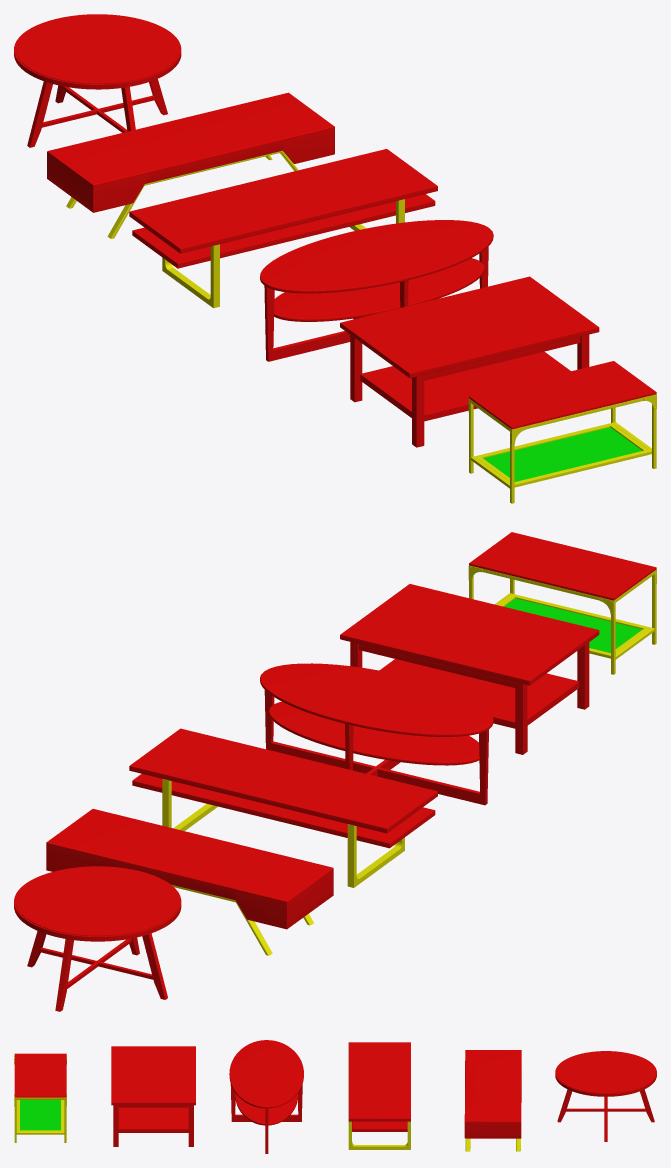
File: thorkea_coffee_tables_grp.fbx
3 renders of one model, top to bottom at view 1: azimuth 30°, elevation 25°; view 2: azimuth 150°, elevation 25°; view 3: azimuth 270°, elevation 25°, orthographic. The views are drawn at different scales.
Parts seen in each view (by area): view 1: thorkea_coffee_table_hemnes, thorkea_coffee_table_lisabo, thorkea_coffee_table_vejmon, thorkea_coffee_table_bankas, thorkea_coffee_table_fjallbo, thorkea_coffee_table_kragsta; view 2: thorkea_coffee_table_hemnes, thorkea_coffee_table_lisabo, thorkea_coffee_table_vejmon, thorkea_coffee_table_bankas, thorkea_coffee_table_kragsta, thorkea_coffee_table_fjallbo; view 3: thorkea_coffee_table_hemnes, thorkea_coffee_table_lisabo, thorkea_coffee_table_vejmon, thorkea_coffee_table_bankas, thorkea_coffee_table_kragsta, thorkea_coffee_table_fjallbo.
Boxes of the visible parts, x1,y1,x2,y2 form: thorkea_coffee_table_hemnes: [340, 276, 599, 447]; thorkea_coffee_table_lisabo: [129, 149, 437, 308]; thorkea_coffee_table_vejmon: [260, 220, 493, 361]; thorkea_coffee_table_bankas: [47, 92, 334, 238]; thorkea_coffee_table_fjallbo: [468, 361, 656, 503]; thorkea_coffee_table_kragsta: [14, 14, 181, 147]; thorkea_coffee_table_hemnes: [340, 584, 599, 754]; thorkea_coffee_table_lisabo: [129, 728, 437, 887]; thorkea_coffee_table_vejmon: [260, 663, 493, 805]; thorkea_coffee_table_bankas: [46, 809, 333, 955]; thorkea_coffee_table_kragsta: [14, 866, 181, 1011]; thorkea_coffee_table_fjallbo: [468, 532, 656, 674]; thorkea_coffee_table_hemnes: [111, 1046, 195, 1146]; thorkea_coffee_table_lisabo: [348, 1042, 410, 1149]; thorkea_coffee_table_vejmon: [229, 1040, 303, 1153]; thorkea_coffee_table_bankas: [464, 1050, 521, 1151]; thorkea_coffee_table_kragsta: [555, 1051, 656, 1141]; thorkea_coffee_table_fjallbo: [14, 1053, 66, 1142].
Size of the model in its own units: 160 by 48.06 by 568.
